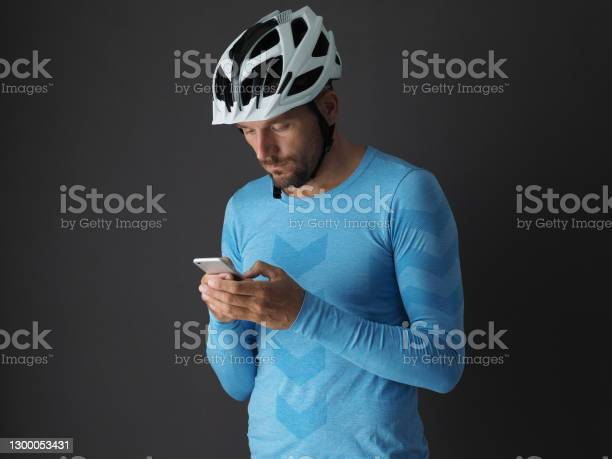helmet: (210, 5, 344, 189)
